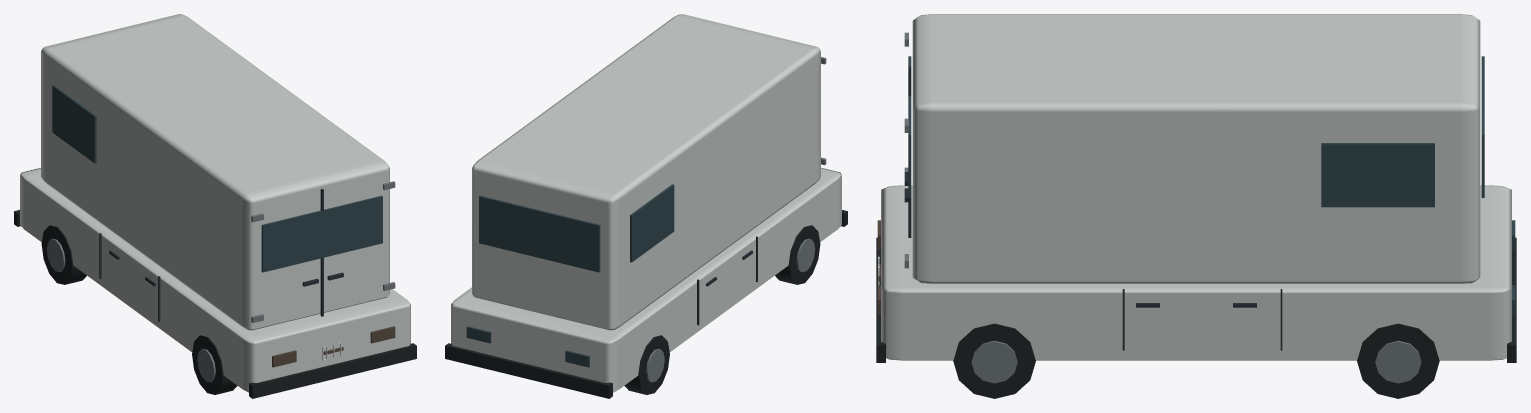
The model's file is van-1.glb.
3 views of the same model, side by side, from view 1: azimuth 30°, elevation 25°; view 2: azimuth 150°, elevation 25°; view 3: azimuth 270°, elevation 25° (orthographic). The views are drawn at different scales.
Parts seen in each view (by area): view 1: van/0/KR-230-1; view 2: van/0/KR-230-1; view 3: van/0/KR-230-1.
Part boxes in pixels (left/top/right/bottom): van/0/KR-230-1: left=14, top=14, right=416, bottom=398; van/0/KR-230-1: left=445, top=14, right=847, bottom=398; van/0/KR-230-1: left=876, top=14, right=1516, bottom=398.
Bounding box in the file's own units: 2.17 × 2.6 × 5.28.
